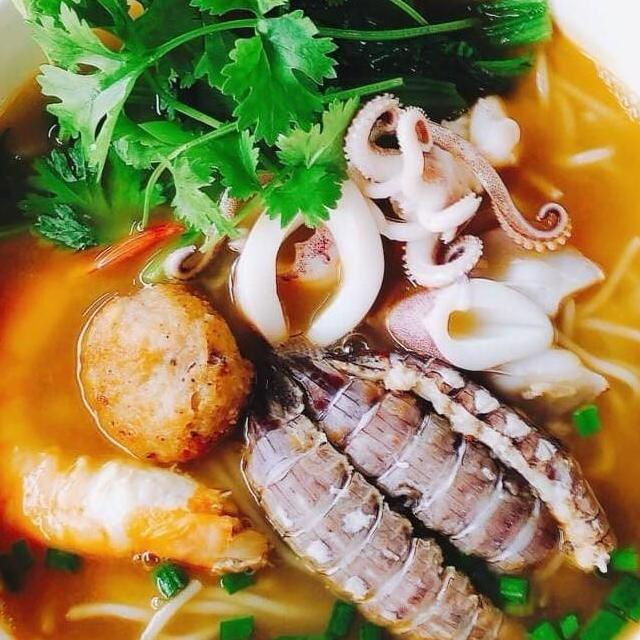bun: (0, 148, 101, 452), (281, 0, 618, 83)
bun hai san: (0, 0, 640, 640)
muc: (56, 342, 322, 554), (21, 220, 280, 419), (247, 274, 418, 477)
tom: (356, 53, 640, 436)
tom tit: (83, 0, 417, 289), (43, 32, 364, 292), (10, 57, 338, 304)
